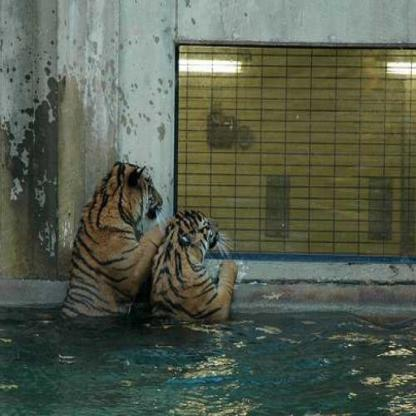Tiger: (65, 133, 150, 353), (148, 202, 244, 326)
